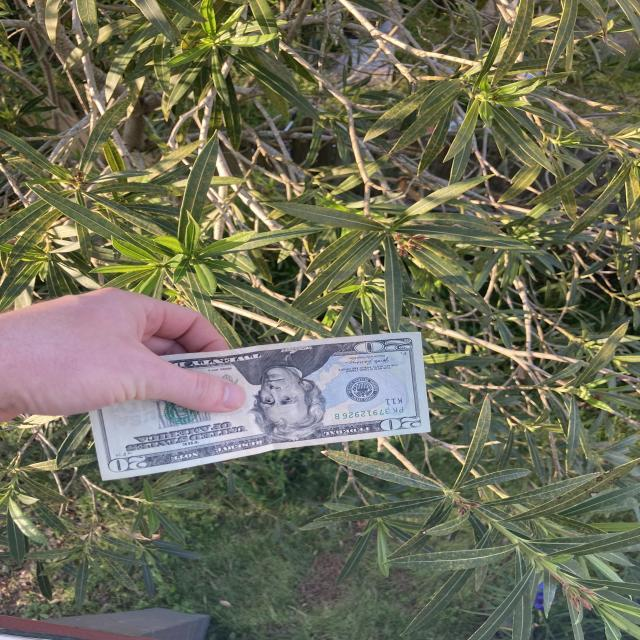twenty: (82, 331, 432, 482)
